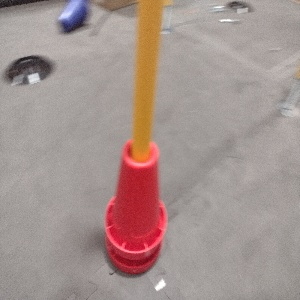Blue_1: (59, 0, 87, 31)
Red_2: (105, 142, 165, 272)
